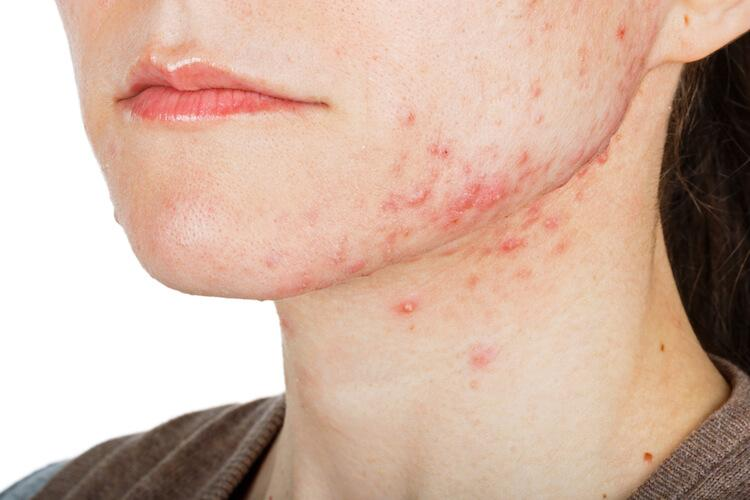Acne: (338, 108, 618, 255)
